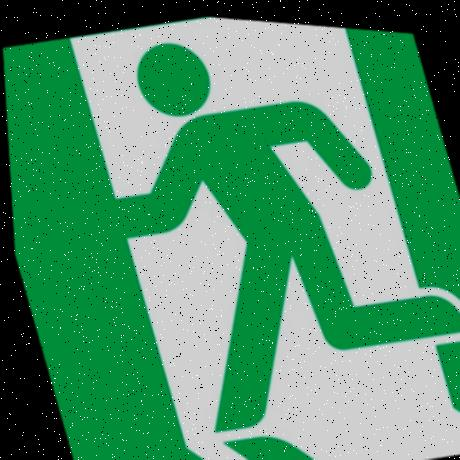emergency_exit: (1, 15, 459, 459)
